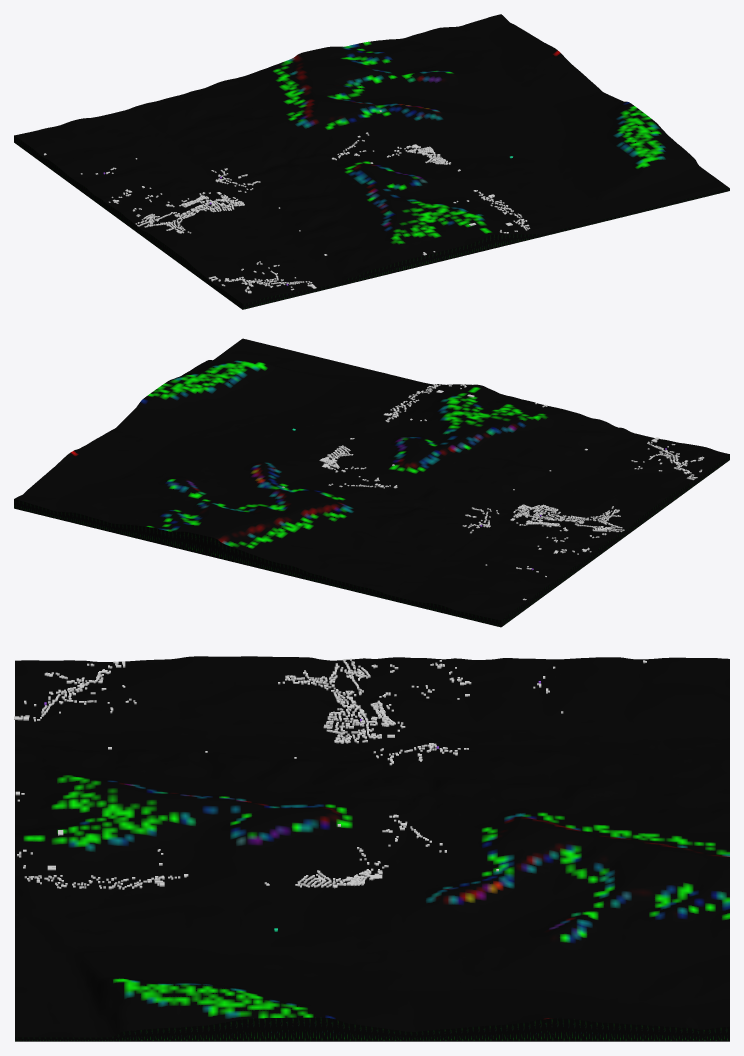
File: terrain_3d_mesh_7.1x5.8km_with_1498_buildings_128x128 (1).glb
3 views of the same model, one above another, from view 1: azimuth 30°, elevation 25°; view 2: azimuth 150°, elevation 25°; view 3: azimuth 270°, elevation 25° (orthographic). The views are drawn at different scales.
Visible parts, largest first — view 1: Terrain_3D_Model; view 2: Terrain_3D_Model; view 3: Terrain_3D_Model.
Part boxes in pixels (x1,y1,x2,y2): Terrain_3D_Model: (14,14,729,309); Terrain_3D_Model: (14,338,729,627); Terrain_3D_Model: (15,656,729,1041).
Bounding box in the file's own units: 100 × 3.84 × 81.4.
4 materials, 1 textured.
